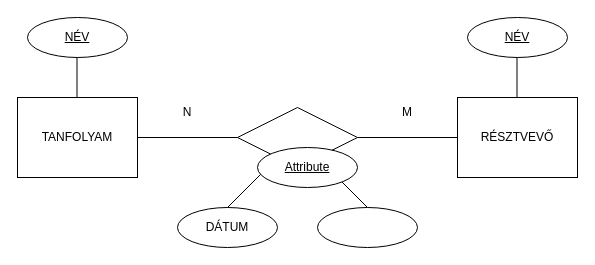
The diagram is 595 pixels wide and 265 high, and some of its shapes have lost their labels. The shapes that lost their labels are listed below. From the top down, each one's box as (x1, y1, x2, y2) in pixels, then its label:
(236, 106, 358, 168): RÉSZVÉTEL
(316, 206, 418, 248): JEGY
